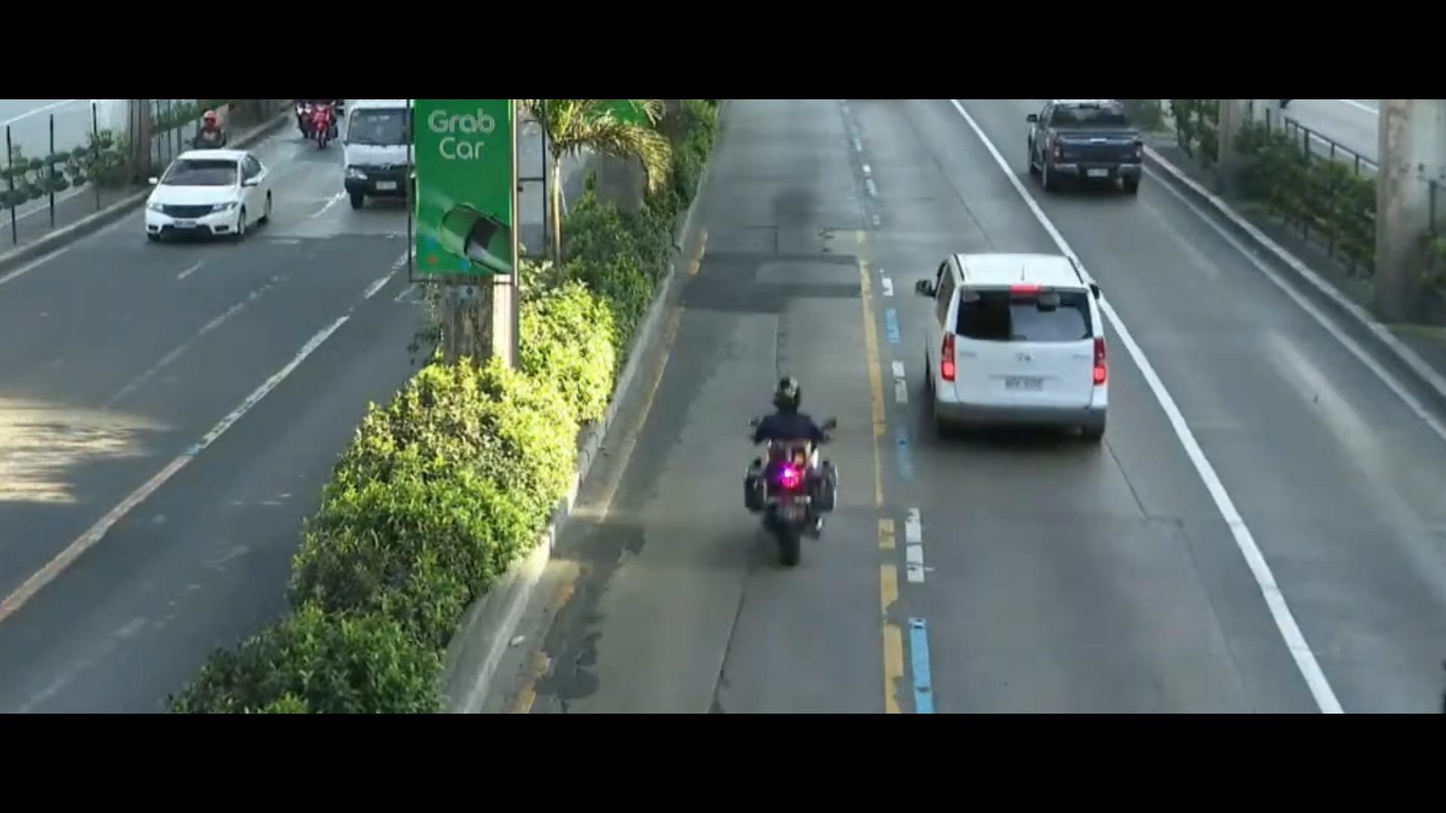Motorcycle: (723, 371, 857, 563), (185, 108, 221, 149), (311, 108, 334, 160)
Pickup: (1018, 99, 1170, 217)
SUV: (906, 224, 1141, 477)
Sedan: (134, 130, 285, 250)
Truck: (337, 104, 413, 209)
